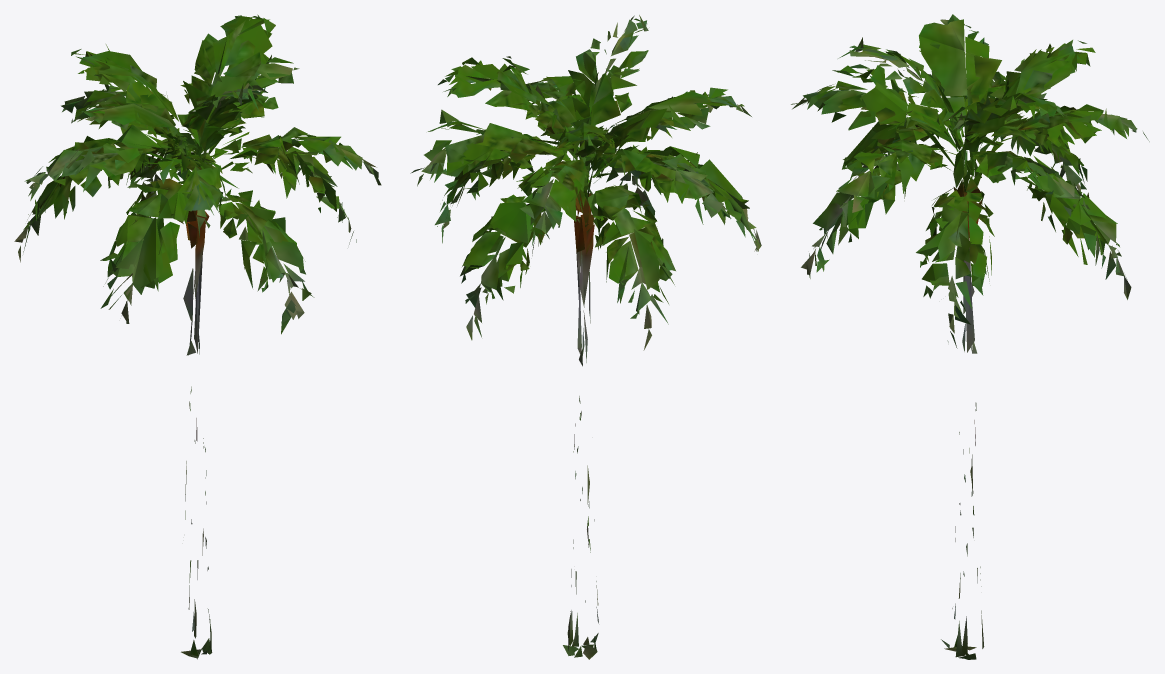
File: loc_sy_nat_palm.glb
3 views of the same model, side by side, from view 1: azimuth 30°, elevation 25°; view 2: azimuth 150°, elevation 25°; view 3: azimuth 270°, elevation 25° (orthographic).
Visible parts, largest first — view 1: tripo_node_825e059e-c703-4bb4-af64-371da6cbb587; view 2: tripo_node_825e059e-c703-4bb4-af64-371da6cbb587; view 3: tripo_node_825e059e-c703-4bb4-af64-371da6cbb587.
Boxes of the visible parts, box(x1,y1,x2,y2) form: tripo_node_825e059e-c703-4bb4-af64-371da6cbb587: box(14, 14, 381, 659); tripo_node_825e059e-c703-4bb4-af64-371da6cbb587: box(410, 15, 761, 659); tripo_node_825e059e-c703-4bb4-af64-371da6cbb587: box(791, 14, 1149, 659).
Size of the model in its own units: 1.44 by 2.72 by 1.44.
Materials: 1 (1 with a texture image).
